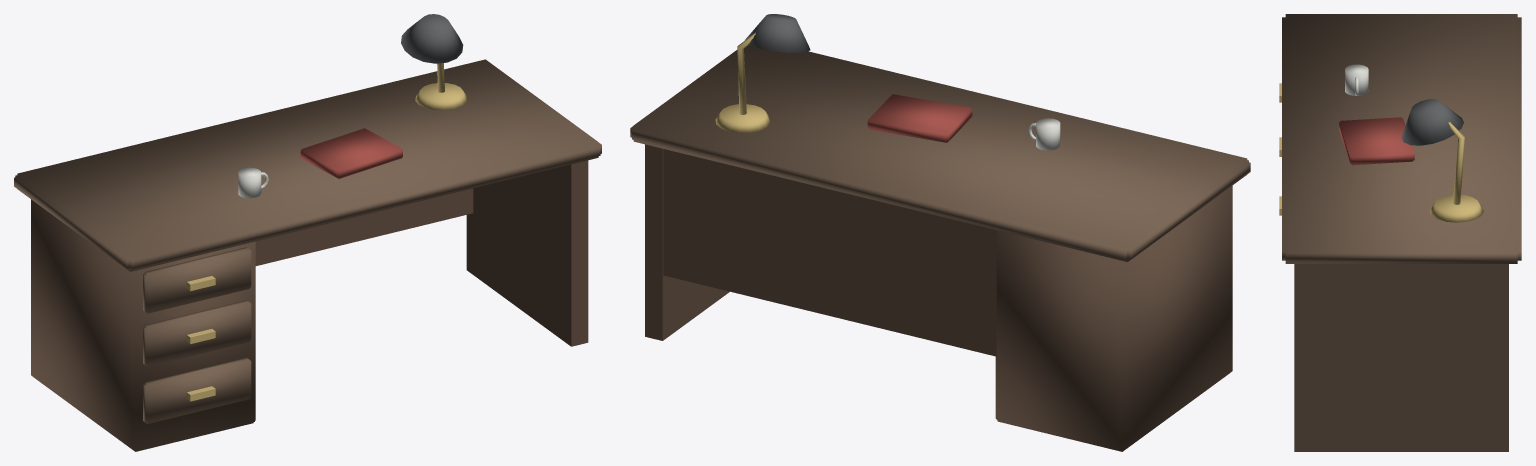
The model's file is guard_booth_desk.glb.
The picture shows the model from 3 angles, left to right: view 1: azimuth 30°, elevation 25°; view 2: azimuth 150°, elevation 25°; view 3: azimuth 270°, elevation 25°; orthographic projection. The views are drawn at different scales.
Parts seen in each view (by area): view 1: DeskTop, DrawerPedestalL, SideLegR, BackPanel, DrawerFront_0.22, DrawerFront_0.48, DrawerFront_0.72, LogbookCover, LampShade, LampBase, MugBody; view 2: DeskTop, DrawerPedestalL, BackPanel, SideLegR, LogbookCover, LampShade, LampBase, MugBody, LampNeck; view 3: DeskTop, SideLegR, LogbookCover, LampShade, LampBase, MugBody, LampNeck.
Part boxes in pixels (x1,y1,x2,y2): DeskTop: [14, 59, 601, 271]; DrawerPedestalL: [31, 199, 255, 451]; SideLegR: [466, 160, 588, 346]; BackPanel: [255, 188, 473, 265]; DrawerFront_0.22: [143, 357, 251, 423]; DrawerFront_0.48: [143, 300, 251, 366]; DrawerFront_0.72: [143, 247, 251, 313]; LogbookCover: [300, 128, 402, 178]; LampShade: [401, 14, 463, 63]; LampBase: [415, 83, 467, 110]; MugBody: [238, 167, 261, 198]; DeskTop: [630, 45, 1250, 261]; DrawerPedestalL: [995, 185, 1232, 451]; BackPanel: [663, 149, 996, 356]; SideLegR: [645, 144, 729, 340]; LogbookCover: [867, 94, 972, 142]; LampShade: [745, 14, 810, 52]; LampBase: [715, 104, 770, 132]; MugBody: [1036, 118, 1060, 150]; LampNeck: [737, 32, 755, 114]; DeskTop: [1282, 14, 1521, 263]; SideLegR: [1294, 264, 1508, 451]; LogbookCover: [1339, 117, 1414, 165]; LampShade: [1401, 99, 1463, 145]; LampBase: [1429, 194, 1483, 222]; MugBody: [1345, 64, 1368, 95]; LampNeck: [1448, 122, 1464, 204].
Size of the model in its own units: 2.25 by 1.35 by 0.97.
